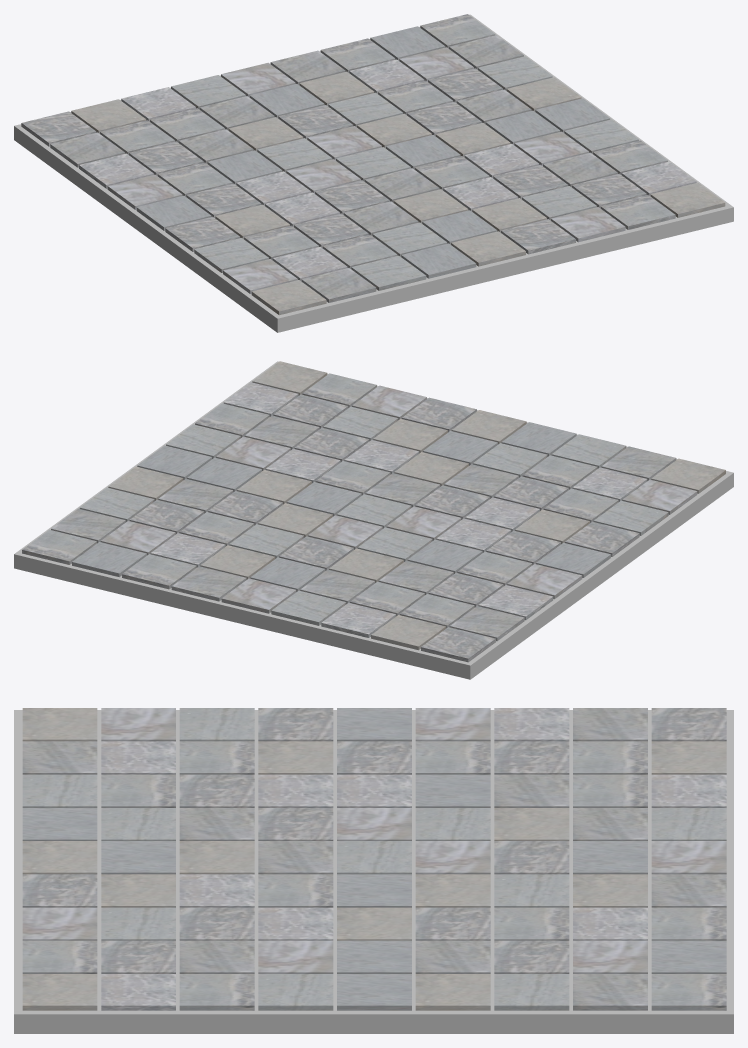
The model's file is 床清書.fbx.
The picture shows the model from 3 angles, top to bottom: view 1: azimuth 30°, elevation 25°; view 2: azimuth 150°, elevation 25°; view 3: azimuth 270°, elevation 25°; orthographic projection. The views are drawn at different scales.
Parts seen in each view (by area): view 1: 床の底, タイル, タイル.003, タイル.001, タイル.002, タイル.008, タイル.004, タイル.007, タイル.005, タイル.006, タイル.045, タイル.036 (+70 smaller); view 2: 床の底, タイル.072, タイル.077, タイル.075, タイル.076, タイル.078, タイル.073, タイル.080, タイル.074, タイル.079, タイル.009, タイル.045 (+70 smaller); view 3: 床の底, タイル.008, タイル.026, タイル.035, タイル.053, タイル.062, タイル.080, タイル.017, タイル.044, タイル.071, タイル.001, タイル.005 (+70 smaller).
Boxes of the visible parts, bbox=[...] form: 床の底: bbox=[14, 14, 733, 332]; タイル: bbox=[251, 280, 326, 315]; タイル.003: bbox=[401, 243, 476, 278]; タイル.001: bbox=[301, 268, 376, 302]; タイル.002: bbox=[351, 255, 426, 290]; タイル.008: bbox=[650, 182, 725, 217]; タイル.004: bbox=[451, 231, 525, 266]; タイル.007: bbox=[600, 195, 675, 229]; タイル.005: bbox=[501, 219, 575, 254]; タイル.006: bbox=[551, 207, 625, 242]; タイル.045: bbox=[107, 174, 182, 209]; タイル.036: bbox=[136, 195, 211, 230]; 床の底: bbox=[14, 361, 733, 679]; タイル.072: bbox=[421, 627, 495, 662]; タイル.077: bbox=[171, 566, 246, 601]; タイル.075: bbox=[271, 590, 346, 625]; タイル.076: bbox=[221, 578, 296, 613]; タイル.078: bbox=[122, 554, 196, 589]; タイル.073: bbox=[371, 615, 445, 650]; タイル.080: bbox=[22, 529, 96, 564]; タイル.074: bbox=[321, 602, 395, 637]; タイル.079: bbox=[72, 542, 146, 577]; タイル.009: bbox=[622, 479, 697, 514]; タイル.045: bbox=[507, 564, 582, 599]; 床の底: bbox=[14, 710, 733, 1033]; タイル.008: bbox=[22, 974, 97, 1010]; タイル.026: bbox=[179, 974, 254, 1010]; タイル.035: bbox=[258, 974, 333, 1010]; タイル.053: bbox=[415, 974, 490, 1010]; タイル.062: bbox=[494, 974, 569, 1010]; タイル.080: bbox=[651, 974, 726, 1010]; タイル.017: bbox=[101, 974, 175, 1010]; タイル.044: bbox=[337, 974, 411, 1010]; タイル.071: bbox=[573, 974, 647, 1010]; タイル.001: bbox=[22, 741, 97, 774]; タイル.005: bbox=[22, 874, 97, 907].
Size of the model in its own units: 1833 by 69.03 by 1833.
